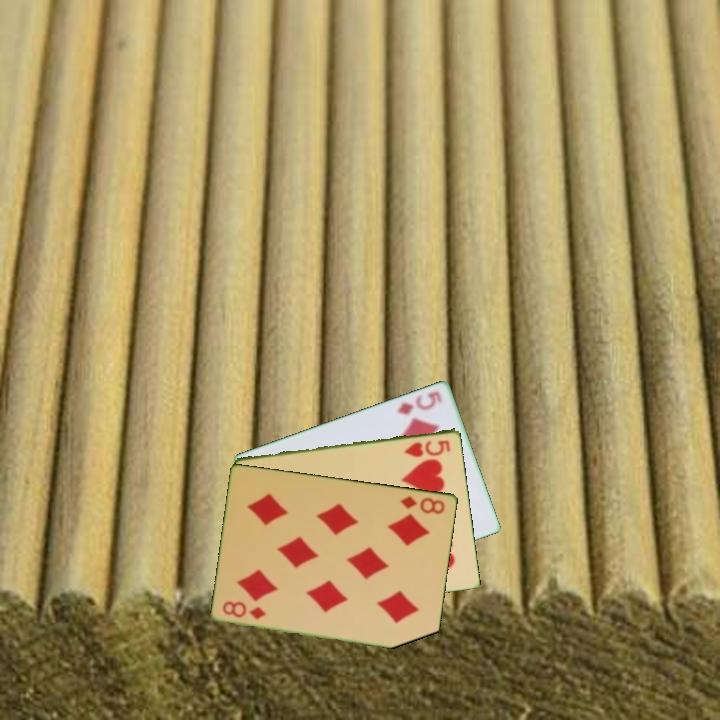5d: (393, 387, 445, 418)
5h: (401, 436, 453, 460)
8d: (397, 492, 448, 517), (219, 598, 269, 622)
